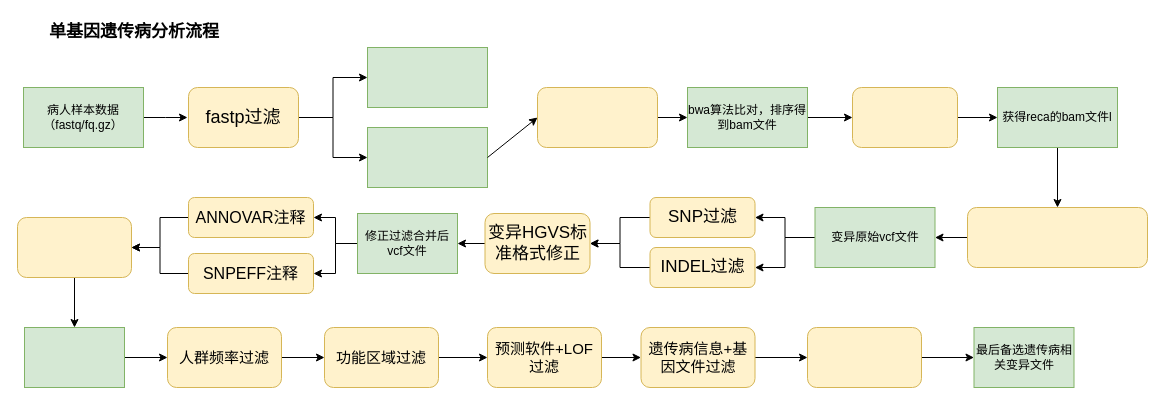
Some shapes in this 1165 by 405 pixel diagram are drawn without their labels. The shapes that lost their labels are listed below. From the top down, each one's centre as x and y in pixels, then its label:
the point at 427,77: 质控结果文件
the point at 597,117: speedseq处理
the point at 905,117: Indel的BQSR校正
the point at 427,157: 处理后样本数据（good fastq/fq.gz）
the point at 74,247: OMIM/HGMD/遗传病信息注释
the point at 1057,237: GATK HC算法call变异
the point at 74,357: 注释后文本文件
the point at 864,357: 变异同源性过滤
